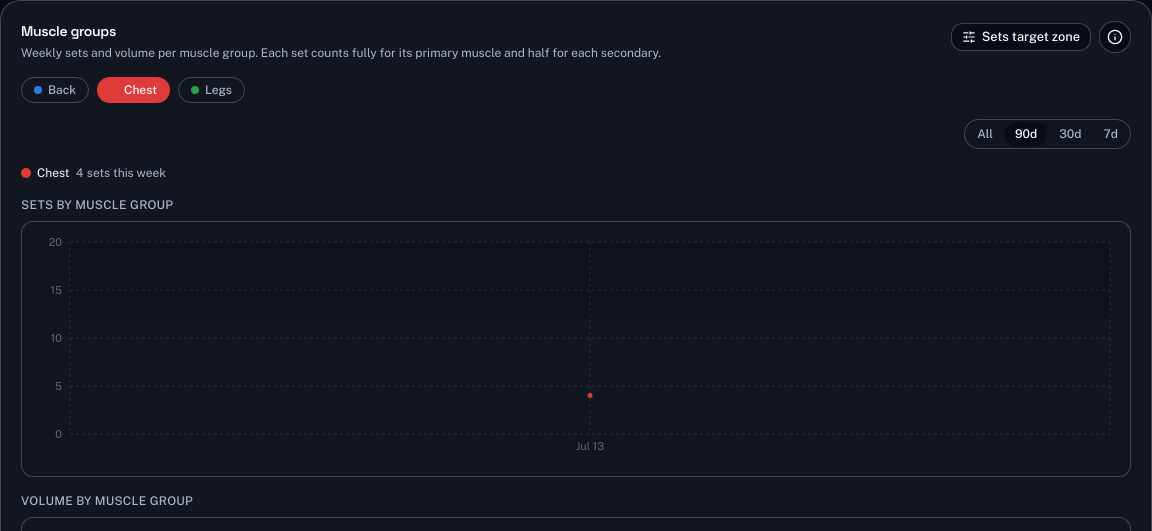
MuscleGroupProgressClient — the week window › drops weeks older than the selected range
Click the tab "7d".
click(1111, 134)  # box [1094,122,1128,146]
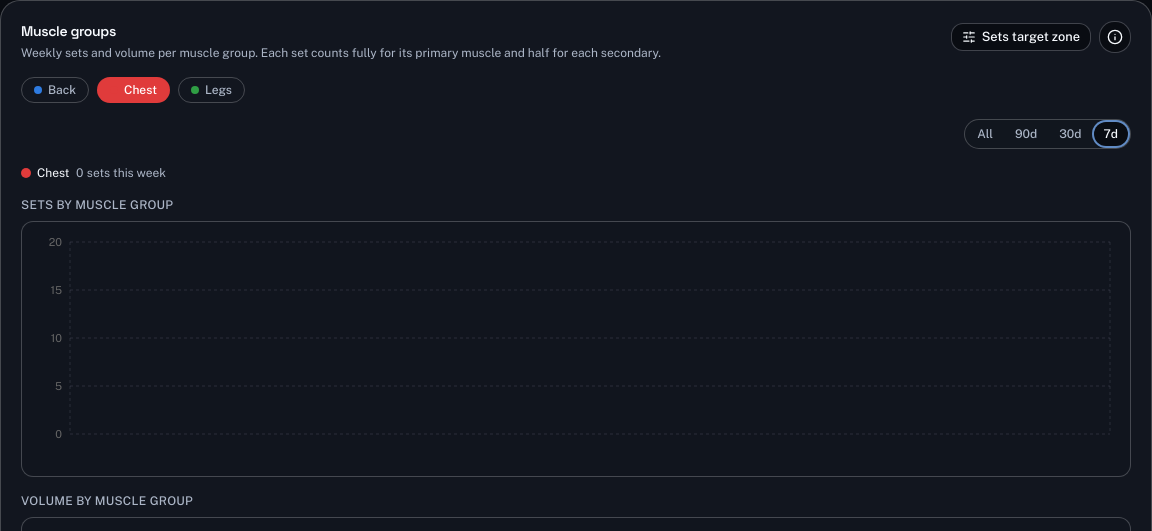
Result: the text with class "tabular-nums" shows "0" at [76,166,166,180]
